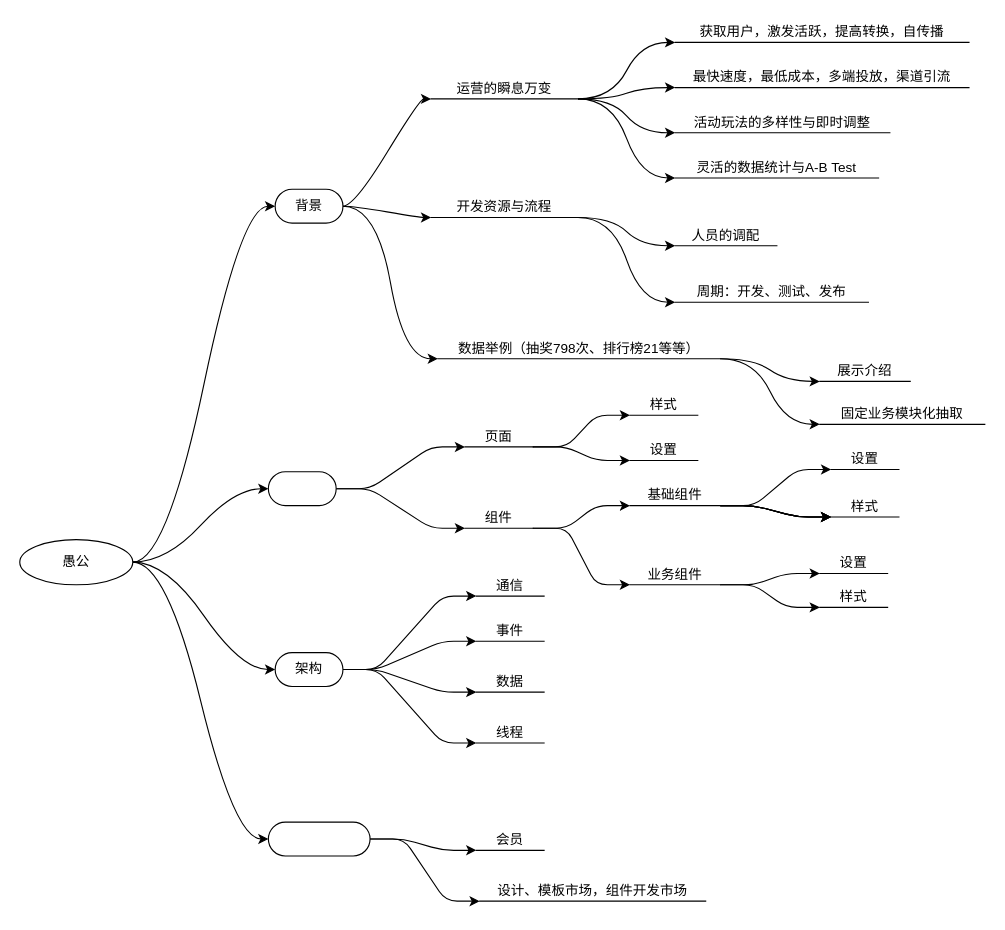
The diagram is 1005 pixels wide and 930 high, and some of its shapes have lost their labels. The centre of each missing label's shape, as x and y in pixels:
"功能" goes at pixel 301 488.
"展望未来" goes at pixel 318 838.
